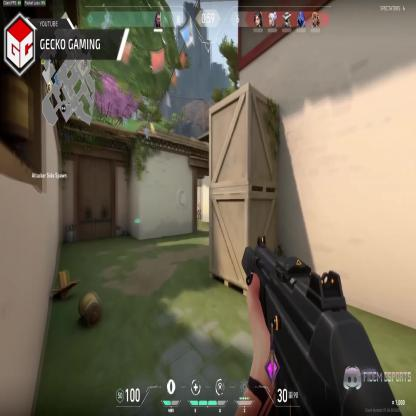enemy: (198, 199, 202, 218)
enemy_head: (199, 201, 201, 204)
